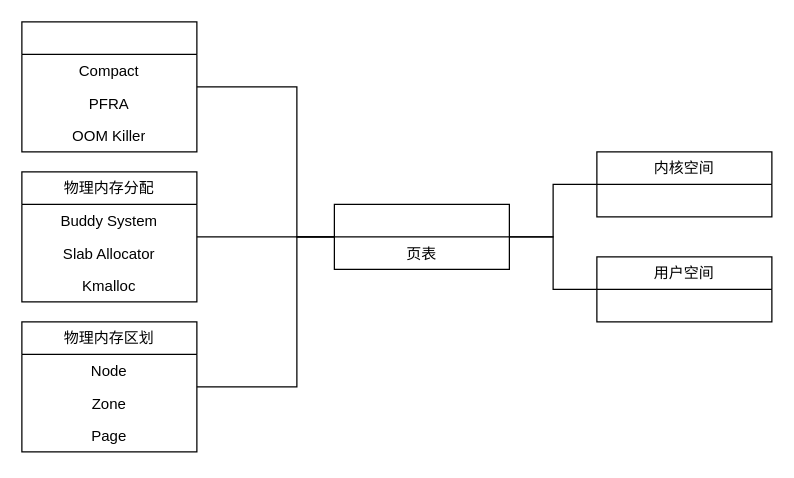
This 794x478 diagram has some shape labels left out. Each missing label, with the box of its shape:
物理内存回收: (21, 21, 197, 152)
虚拟内存映射: (333, 203, 509, 269)
